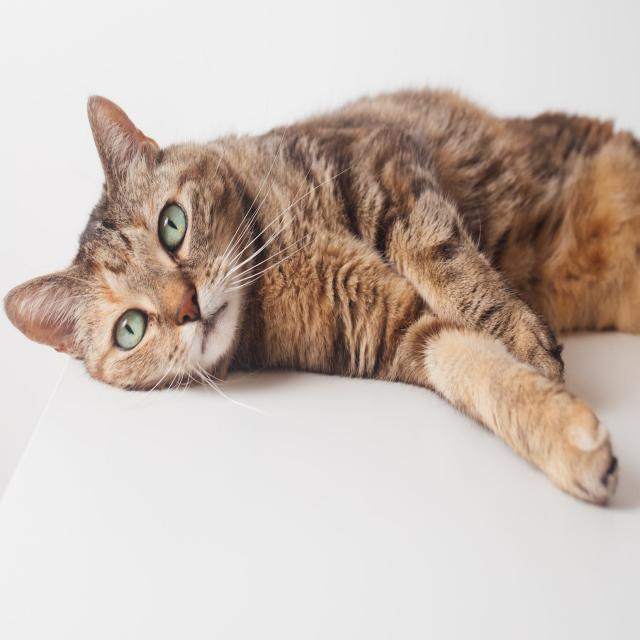cat: (2, 87, 640, 516)
